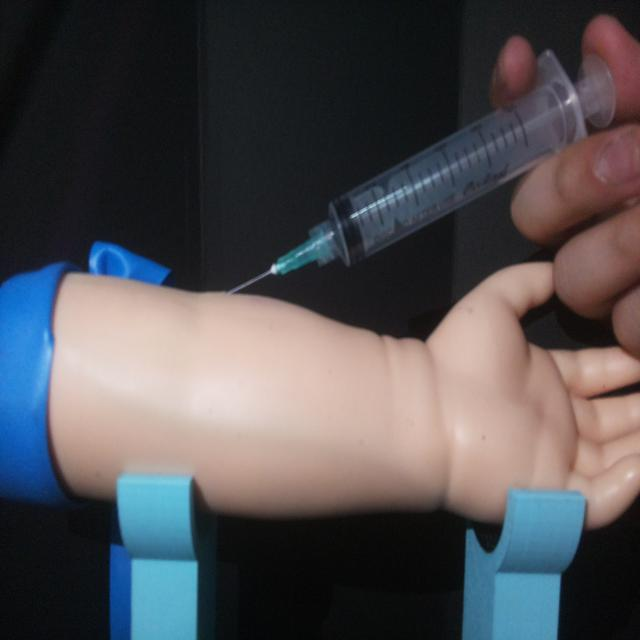23deg: (220, 43, 618, 299)
